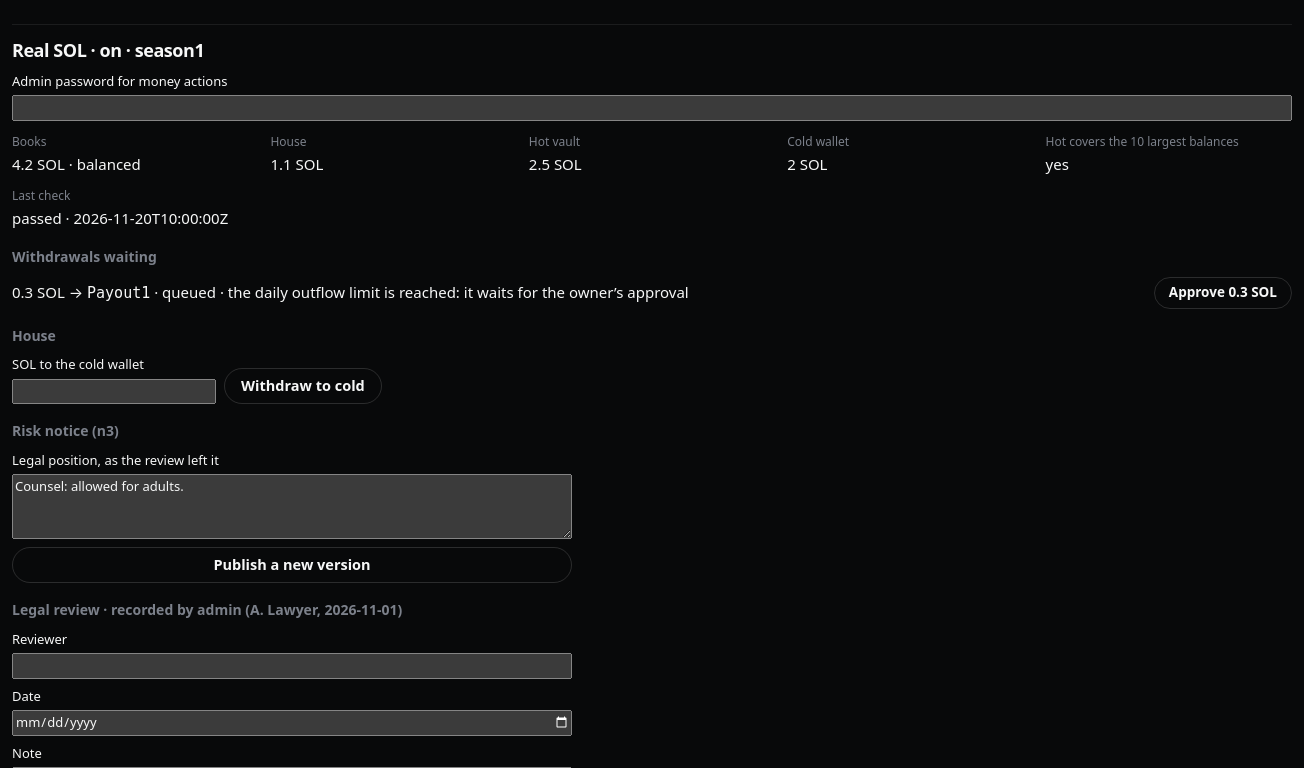
it: admin money panel › disables the money buttons while an action is on its way, so one press is one action (I4)
Type "pw" into the password field labelled "Admin password for money actions" at (652, 108), box [12,95,1292,121]
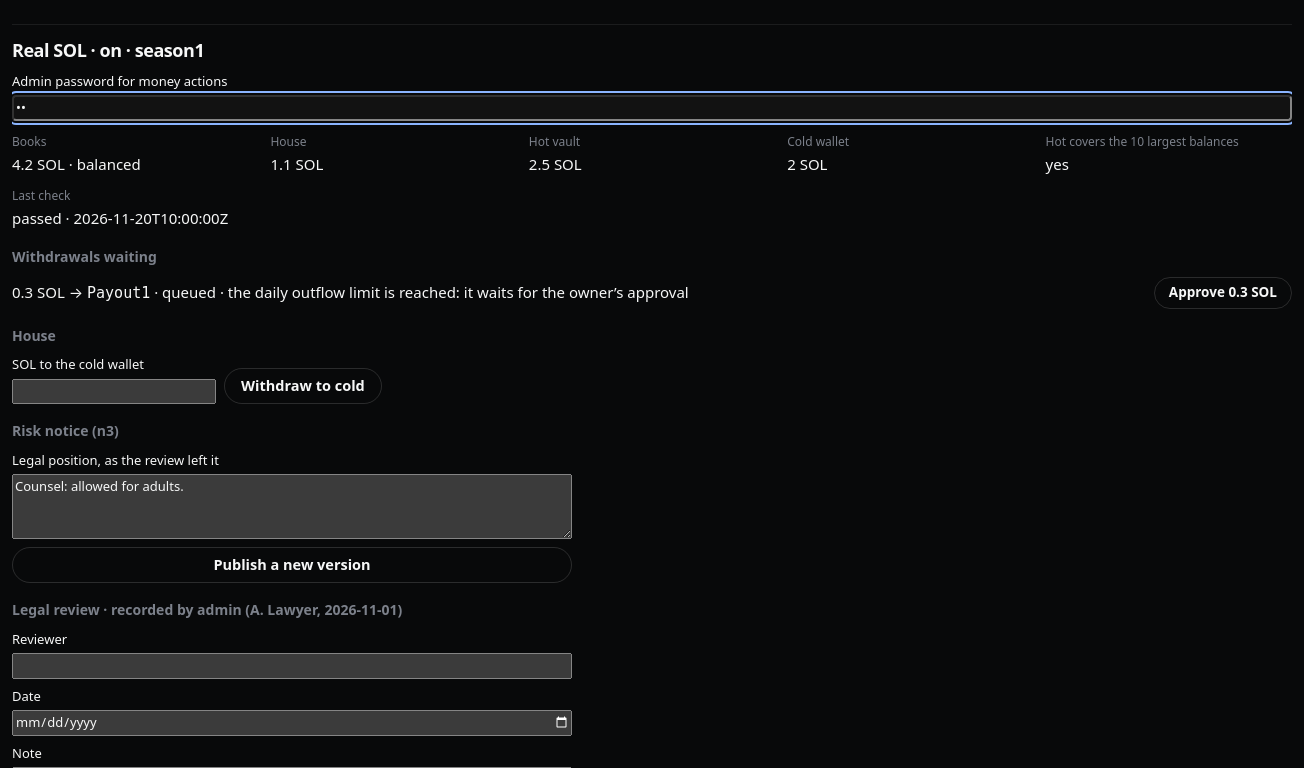
Click the button "Approve 0.3 SOL" at (1223, 293), box [1154,277,1292,309]
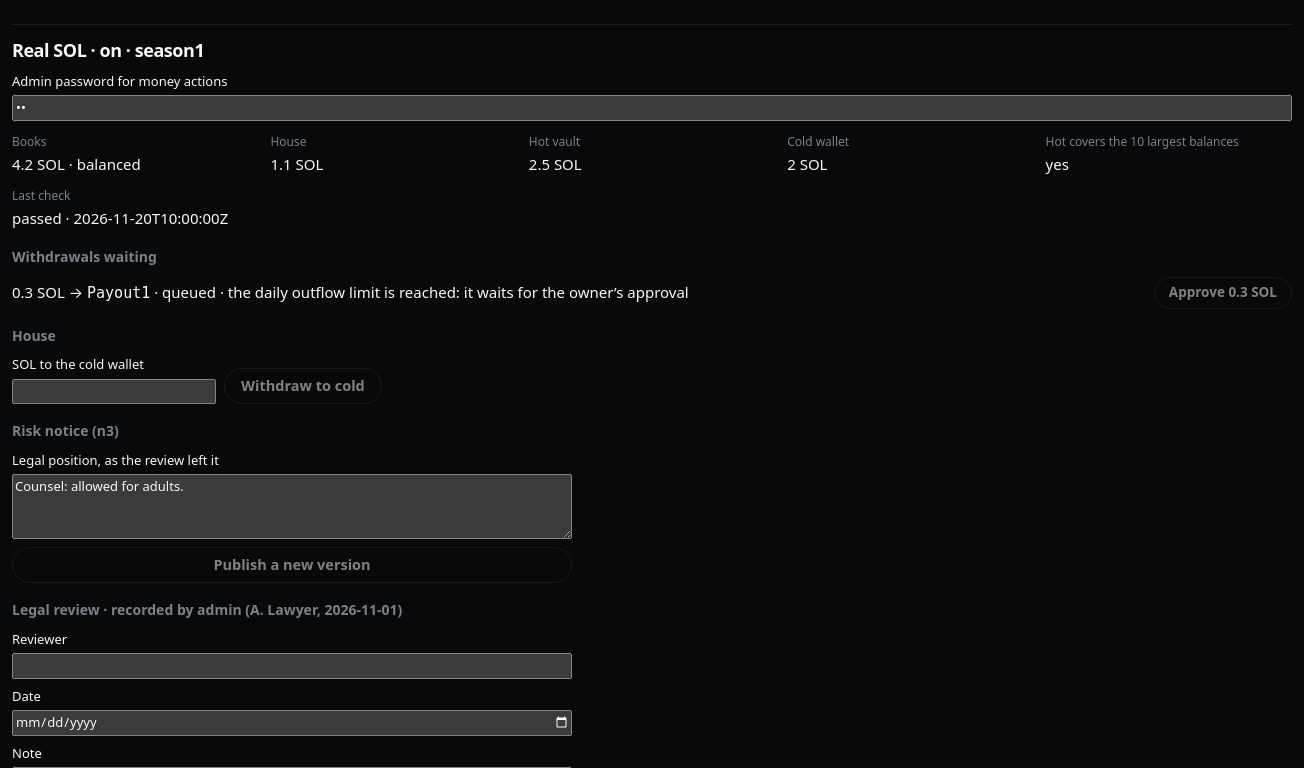
Check: the button "Approve 0.3 SOL" is disabled, box [1154,277,1292,309]
